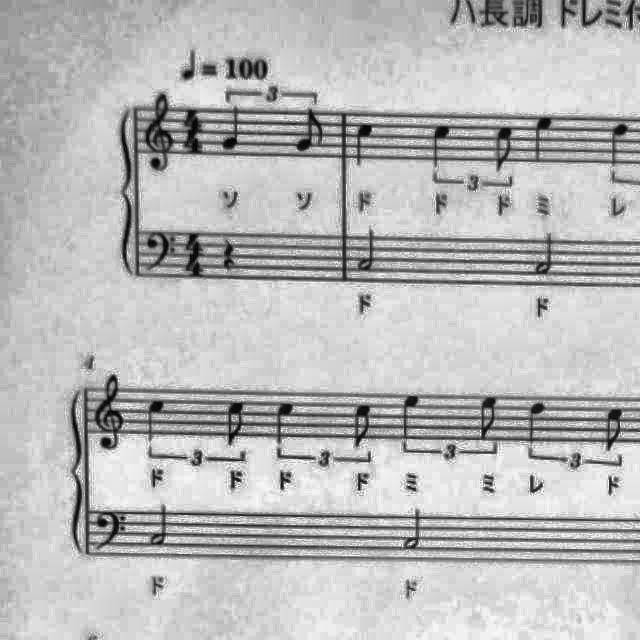Bass-clef: (88, 508, 130, 560), (141, 224, 179, 274)
Eighth-note: (291, 104, 329, 158), (488, 120, 520, 177), (222, 396, 254, 450), (346, 397, 378, 451), (474, 392, 506, 444), (599, 402, 631, 453)
Half-note: (530, 225, 572, 279), (145, 498, 175, 550), (401, 502, 431, 554), (352, 222, 380, 274)
Quarter-note: (526, 109, 560, 167), (602, 117, 636, 171), (426, 117, 458, 171), (520, 396, 552, 450), (141, 394, 171, 450), (218, 103, 248, 157), (395, 390, 425, 442), (271, 398, 301, 450), (350, 118, 378, 170)
Quarter-rest: (217, 232, 243, 276)
Treble-clef: (138, 88, 178, 174), (94, 372, 134, 456)
